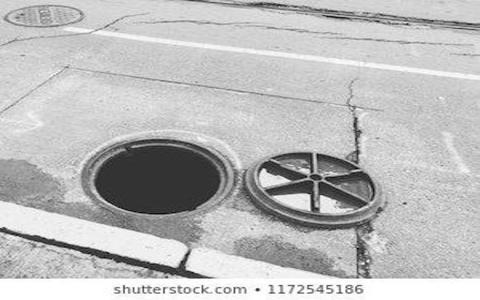open manhole: (66, 125, 240, 225)
